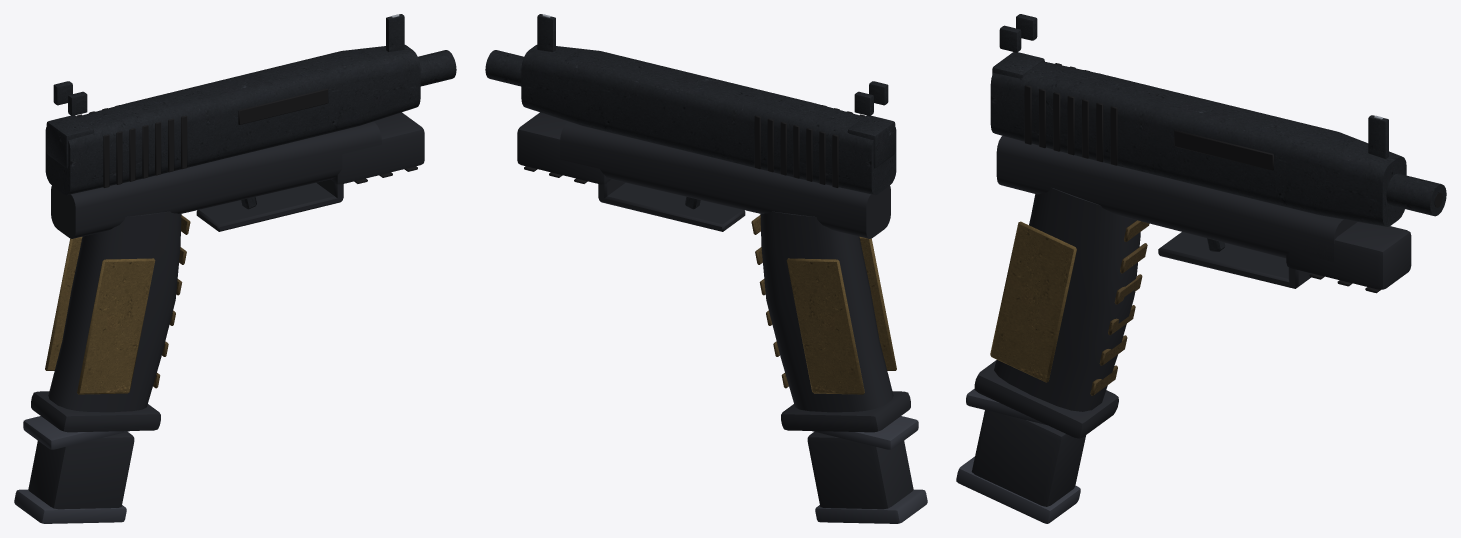
3 views of the same model, side by side, from view 1: azimuth 30°, elevation 25°; view 2: azimuth 150°, elevation 25°; view 3: azimuth 330°, elevation 25° (orthographic). The views are drawn at different scales.
Visible parts, largest first — view 1: p18_body, mag_ext, iron_sights; view 2: p18_body, mag_ext, iron_sights; view 3: p18_body, mag_ext, iron_sights.
Boxes of the visible parts, x1,y1,x2,y2 form: p18_body: (31, 45, 456, 432); mag_ext: (14, 416, 134, 523); iron_sights: (46, 14, 404, 168); p18_body: (485, 45, 910, 432); mag_ext: (807, 416, 927, 523); iron_sights: (537, 14, 895, 168); p18_body: (974, 61, 1446, 438); mag_ext: (956, 389, 1085, 523); iron_sights: (992, 14, 1388, 158).
Size of the model in its own units: 0.2351 by 0.2305 by 0.034.
7 materials, 3 textured.
